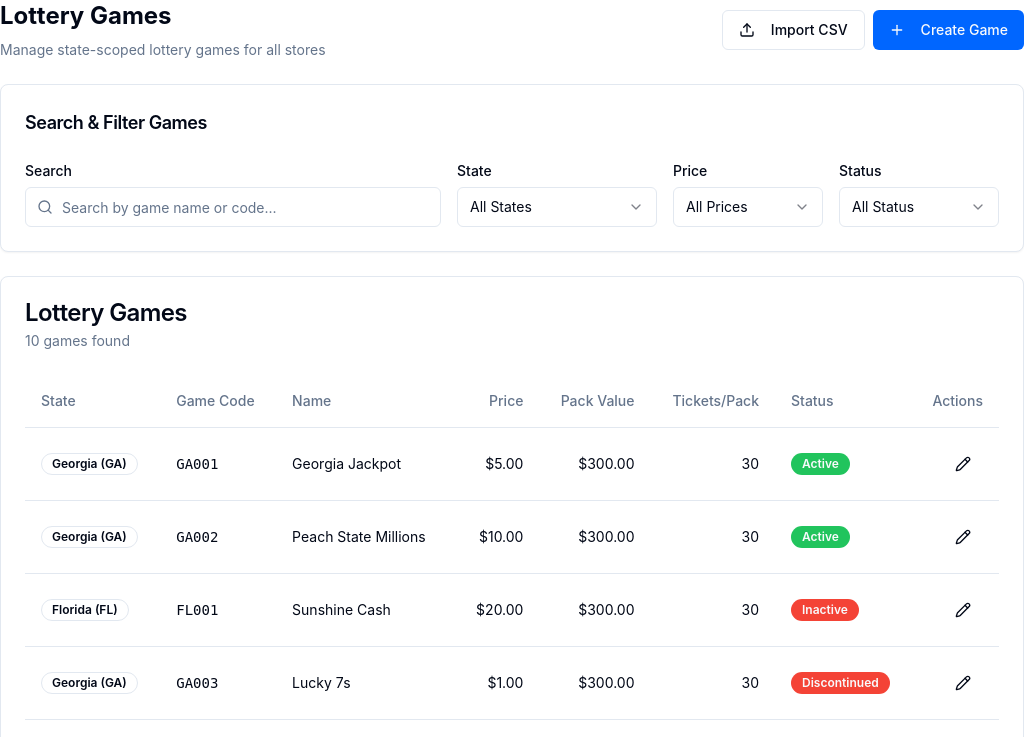
Scenario: Super Admin Lottery Page: Search Functionality › SADMIN-SEARCH-003: [P1] should filter games by game code when searching
This screenshot has width=1024, height=737.
Expected: the text "Georgia Jackpot" is shown, [276,428,450,500]
# User searches by game code
Type "FL001" into the field with test id "search-games-input".
click(233, 207); type("FL001")  # box [25,187,441,227]
Wait 350 ms
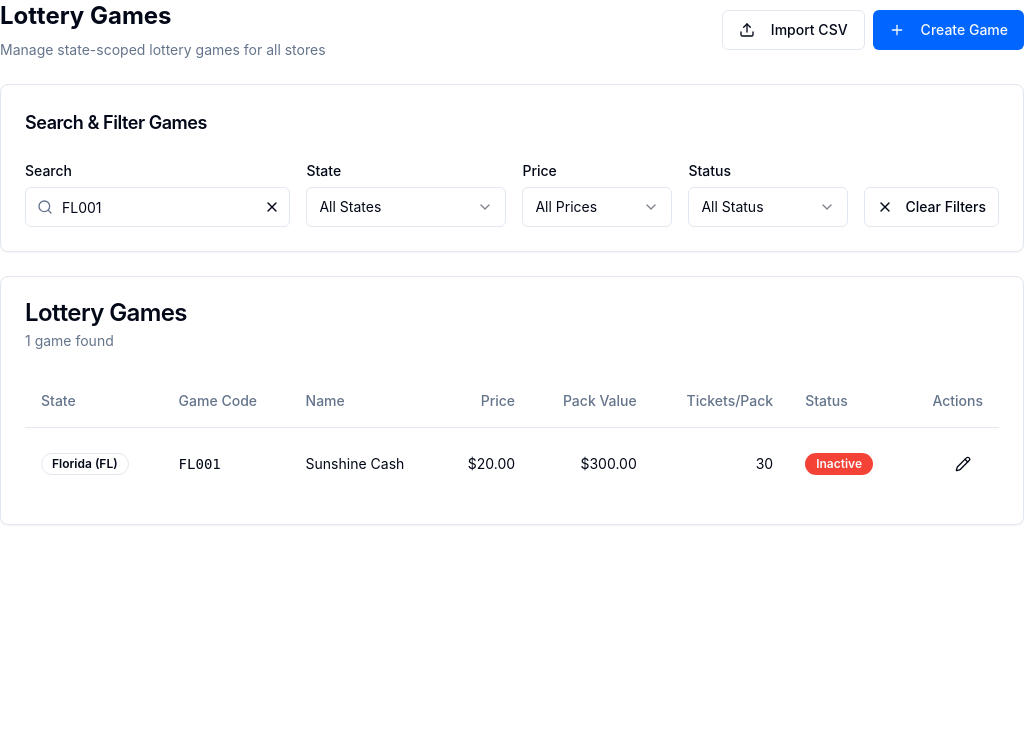
Expected: the text "Sunshine Cash" is shown, [290,428,440,500]
Result: the text "Georgia Jackpot" is gone
